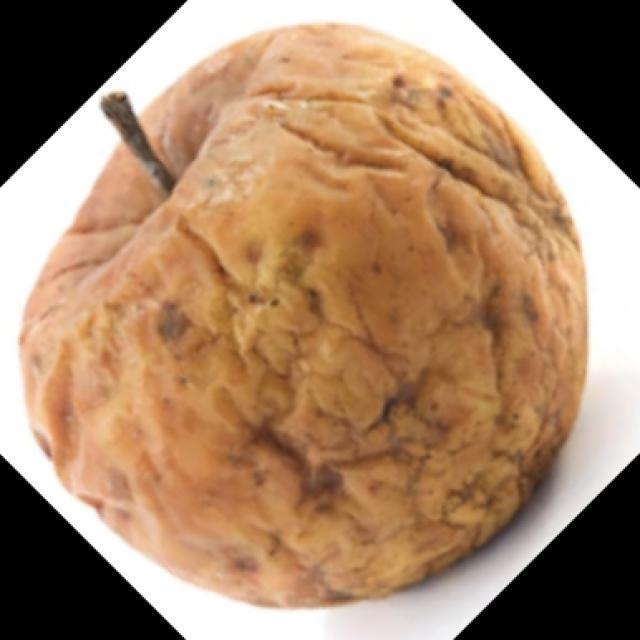Rotten: (58, 50, 560, 567)
